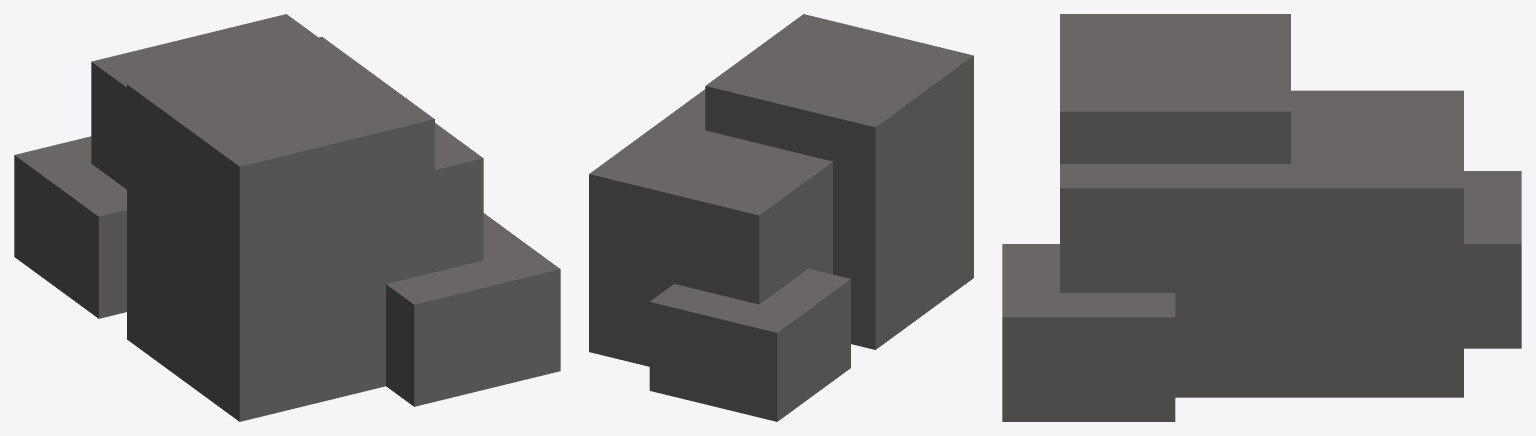
The model's file is Stone-1.obj.
3 views of the same model, side by side, from view 1: azimuth 30°, elevation 25°; view 2: azimuth 150°, elevation 25°; view 3: azimuth 270°, elevation 25° (orthographic). The views are drawn at different scales.
Bounding box in the file's own units: 0.6 × 0.5 × 0.9.
Materials: 1 (1 with a texture image).
